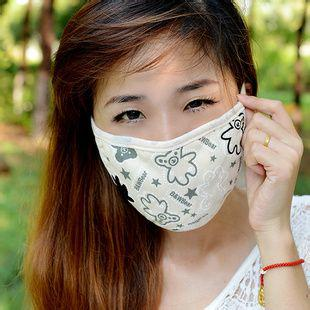OK: (99, 76, 243, 220)
